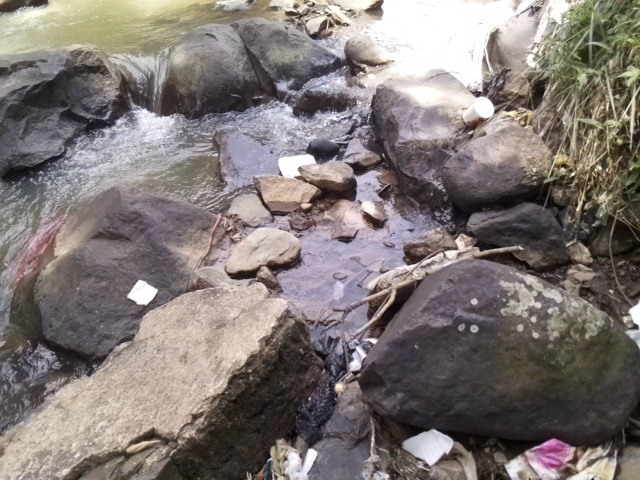Sampah_Plastik: (502, 437, 616, 480)
Sampah_Styrofoam: (401, 429, 457, 467), (462, 96, 497, 135), (274, 153, 321, 180), (125, 277, 162, 307)
